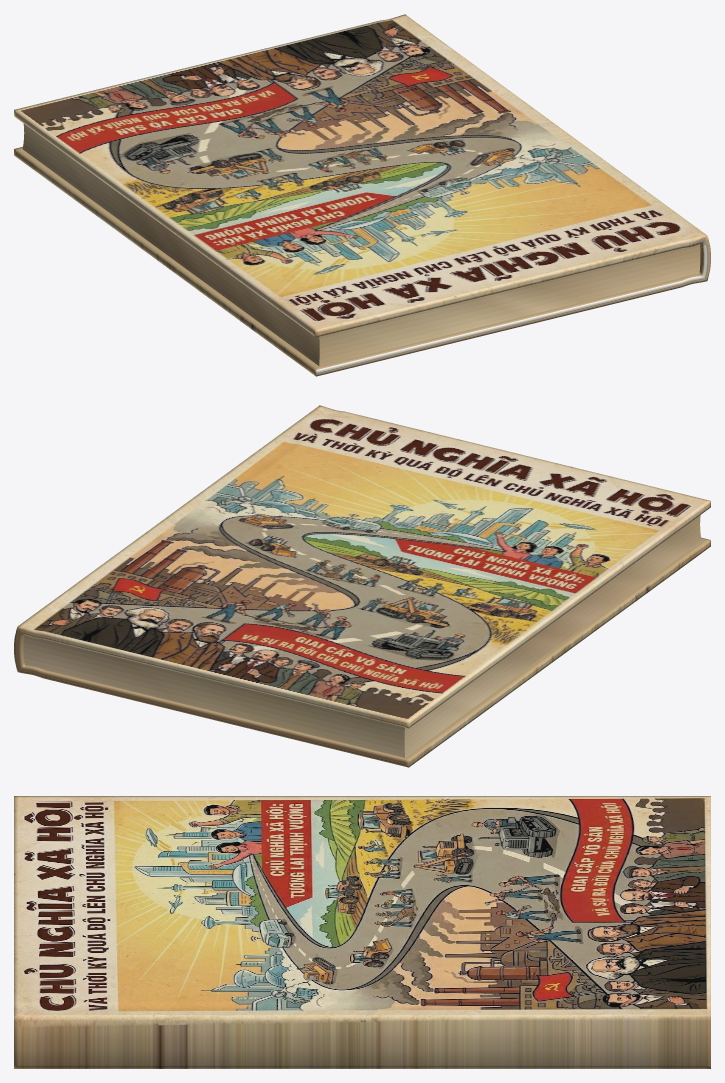
File: Notebookhcm01.glb
3 views of the same model, one above another, from view 1: azimuth 30°, elevation 25°; view 2: azimuth 150°, elevation 25°; view 3: azimuth 270°, elevation 25° (orthographic). The views are drawn at different scales.
Parts seen in each view (by area): view 1: NoteBook; view 2: NoteBook; view 3: NoteBook.
Part boxes in pixels (box(x1,y1,x2,y2)): NoteBook: box(14, 14, 710, 376); NoteBook: box(14, 405, 710, 767); NoteBook: box(14, 796, 710, 1068).
Bounding box in the file's own units: 0.1811 × 0.02 × 0.24.
Materials: 1 (1 with a texture image).
